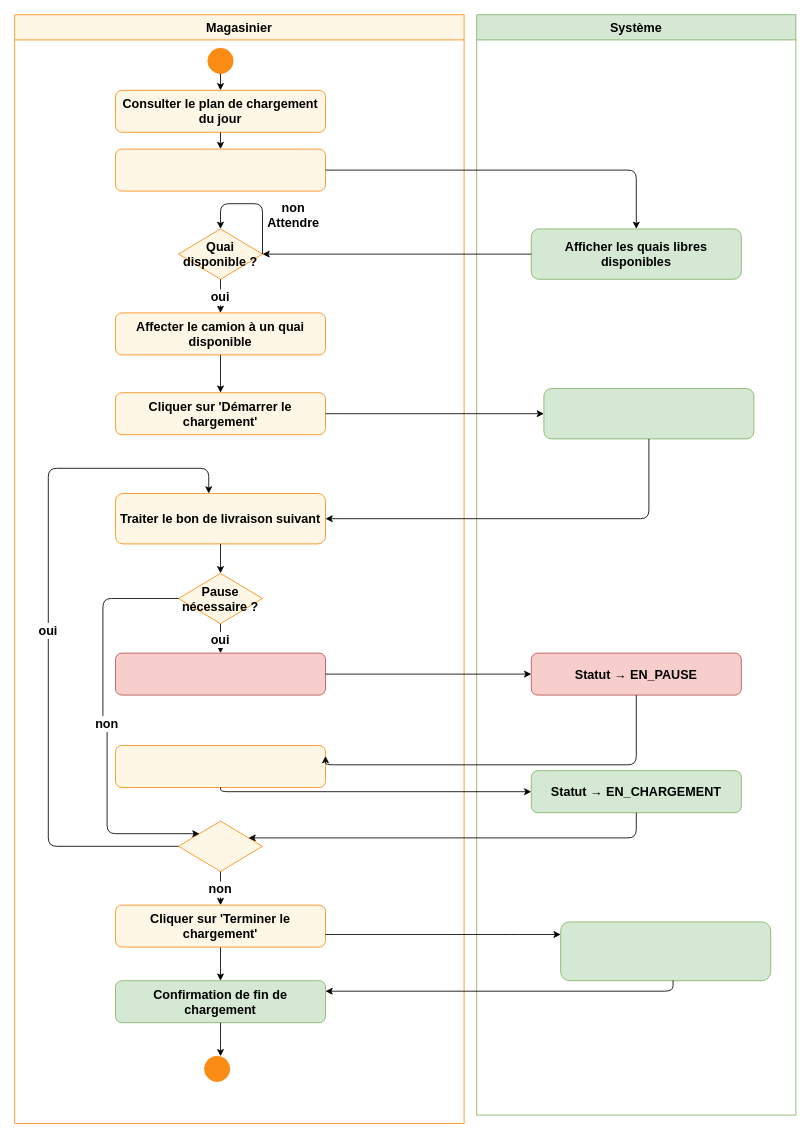
The diagram is 811 pixels wide and 1138 high, and some of its shapes have lost their labels. Each missing label, with the box of its shape:
BL restants ?: (178, 820, 262, 872)
Cliquer sur 'Pause': (115, 652, 326, 695)
Enregistrer heure de début Statut → EN_CHARGEMENT: (543, 388, 754, 439)
Enregistrer heure de fin Statut → TERMINÉ Libérer le quai: (560, 921, 771, 981)
Reprendre le chargement: (115, 745, 326, 788)
Sélectionner un camion validé: (115, 148, 326, 191)
